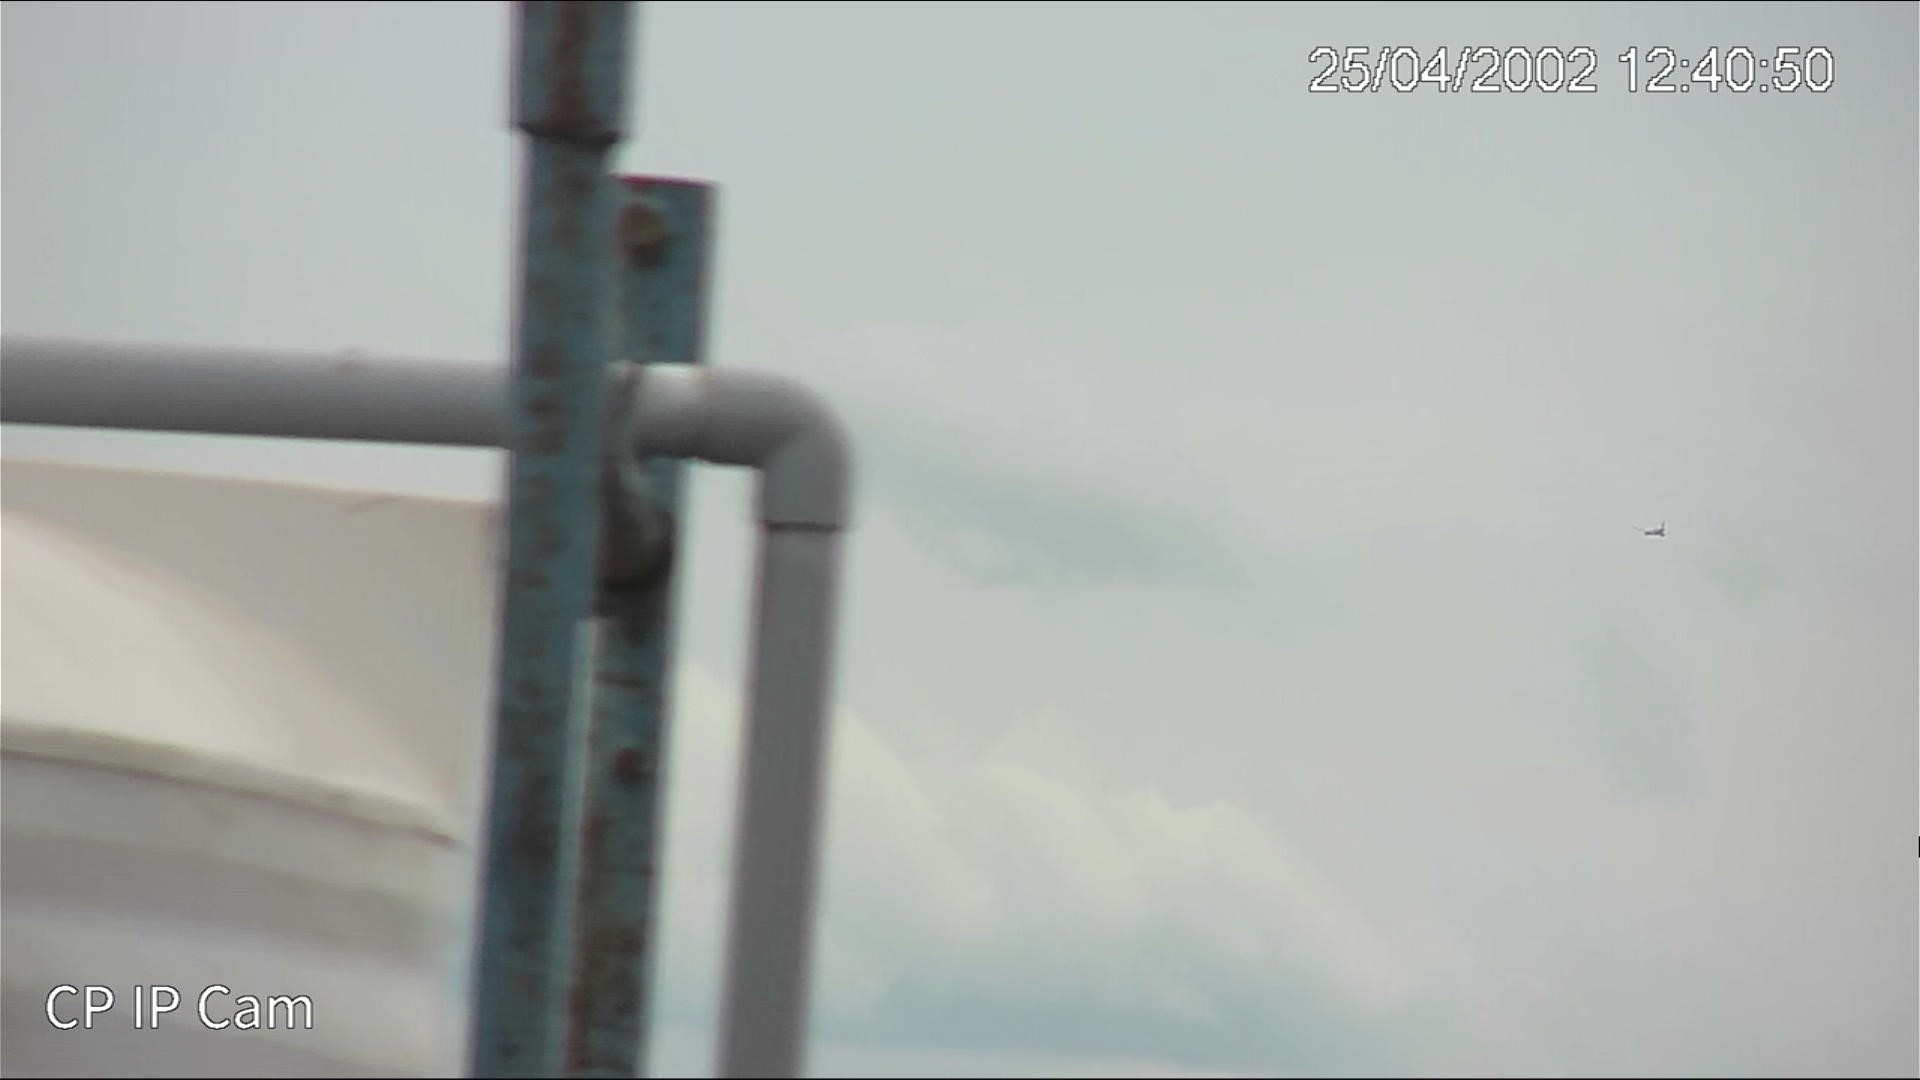SU_30: (1629, 521, 1668, 542)
